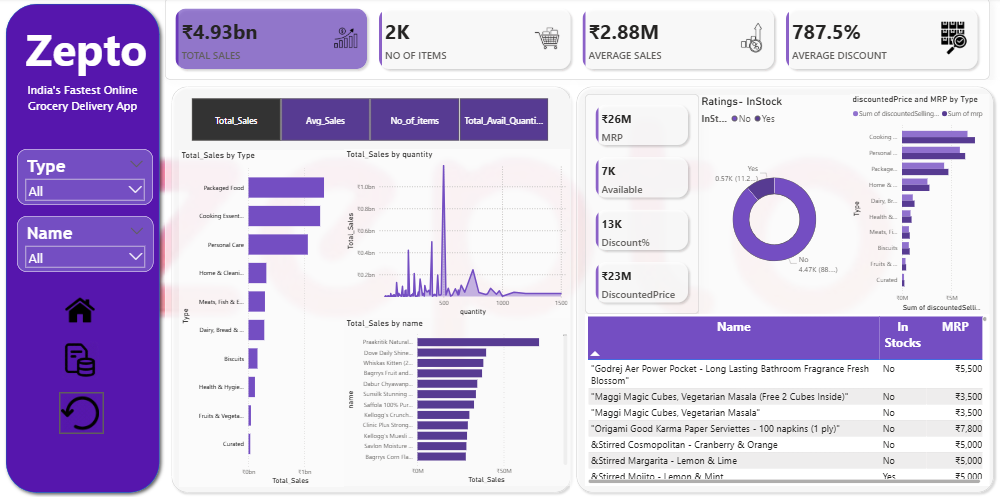

This screenshot's page, from the dashboard's own definition file:
{"tool":"powerbi","page":{"name":"Home","canvas":[2000,1000],"ordinal":0},"visuals":[{"type":"shape","box":[0,0,330.7,1001.1],"z":0},{"type":"textbox","box":[13.4,35.8,317.3,127.4],"z":1000},{"type":"textbox","box":[13.4,163.1,301.7,80.4],"z":2000},{"type":"cardVisual","fields":{"Data":["Sheet1.Total_Sales","Sheet1.No_of_items","Sheet1.Avg_Sales","Sheet1.Avg_Discount"]},"box":[330.7,0,1649.2,163.1],"z":3000},{"type":"shape","box":[330.7,163.1,824.6,838],"z":4000},{"type":"shape","box":[1139.7,163.1,860.3,838],"z":5000},{"type":"slicer","fields":{"Values":["Matrics.Matrics"]},"box":[358,194,762,98],"z":6000},{"type":"slicer","fields":{"Values":["Sheet1.Type"]},"box":[34,302,272,112],"z":7000},{"type":"clusteredBarChart","fields":{"Y":["Sheet1.Total_Avail_Quantity"],"Category":["Sheet1.Type"]},"box":[358,304,330,674],"z":8000},{"type":"cardVisual","fields":{"Data":["Sum(Sheet1.mrp)","Sum(Sheet1.availableQuantity)","Sum(Sheet1.discountPercent)","Sum(Sheet1.discountedSellingPrice)"]},"box":[1170.9,192.2,227.9,440.2],"z":9000},{"type":"tableEx","fields":{"Values":["Sheet1.name","Sheet1.outOfStock","Sheet1.mrp"]},"box":[1170.9,632.4,808.9,344.1],"z":10000},{"type":"slicer","fields":{"Values":["Sheet1.name"]},"box":[33.5,435.8,272.6,111.7],"z":11000},{"type":"clusteredBarChart","title":"discountedPrice and MRP by Type","fields":{"Category":["Sheet1.Type"],"Y":["Sum(Sheet1.discountedSellingPrice)","Sum(Sheet1.mrp)"]},"box":[1700.6,192.2,279.3,440.2],"z":12000},{"type":"donutChart","title":"Ratings- InStock","fields":{"Category":["Sheet1.outOfStock"],"Y":["Sum(Sheet1.Ratings )"]},"box":[1398.9,194.4,301.7,438],"z":13000},{"type":"stackedAreaChart","fields":{"Y":["Sheet1.Total_Avail_Quantity"],"Category":["Sheet1.quantity"]},"box":[688,302,452,338],"z":14000},{"type":"clusteredBarChart","fields":{"Y":["Sheet1.Total_Avail_Quantity"],"Category":["Sheet1.name"]},"box":[688,640,452,336],"z":15000},{"type":"actionButton","box":[118,582,90,84],"z":16000},{"type":"actionButton","box":[118,682,90,84],"z":17000},{"type":"actionButton","box":[118,788,90,84],"z":18000}]}

Visuals, with their boxes in screenshot pixels (x1, y1, x2, y2), scaled from the page's 2000x1000 canvas onto the 1000x497 screenshot:
shape: (left=0, top=0, right=165, bottom=496)
textbox: (left=7, top=18, right=165, bottom=81)
textbox: (left=7, top=81, right=158, bottom=121)
cardVisual - Sheet1.Total_Sales x Sheet1.No_of_items: (left=165, top=0, right=990, bottom=81)
shape: (left=165, top=81, right=578, bottom=496)
shape: (left=570, top=81, right=999, bottom=496)
slicer - Matrics.Matrics: (left=179, top=96, right=560, bottom=145)
slicer - Sheet1.Type: (left=17, top=150, right=153, bottom=206)
clusteredBarChart - Sheet1.Total_Avail_Quantity x Sheet1.Type: (left=179, top=151, right=344, bottom=486)
cardVisual - Sum(Sheet1.mrp) x Sum(Sheet1.availableQuantity): (left=585, top=96, right=699, bottom=314)
tableEx - Sheet1.name x Sheet1.outOfStock: (left=585, top=314, right=990, bottom=485)
slicer - Sheet1.name: (left=17, top=217, right=153, bottom=272)
"discountedPrice and MRP by Type" clusteredBarChart: (left=850, top=96, right=990, bottom=314)
"Ratings- InStock" donutChart: (left=699, top=97, right=850, bottom=314)
stackedAreaChart - Sheet1.Total_Avail_Quantity x Sheet1.quantity: (left=344, top=150, right=570, bottom=318)
clusteredBarChart - Sheet1.Total_Avail_Quantity x Sheet1.name: (left=344, top=318, right=570, bottom=485)
actionButton: (left=59, top=289, right=104, bottom=331)
actionButton: (left=59, top=339, right=104, bottom=381)
actionButton: (left=59, top=392, right=104, bottom=433)
